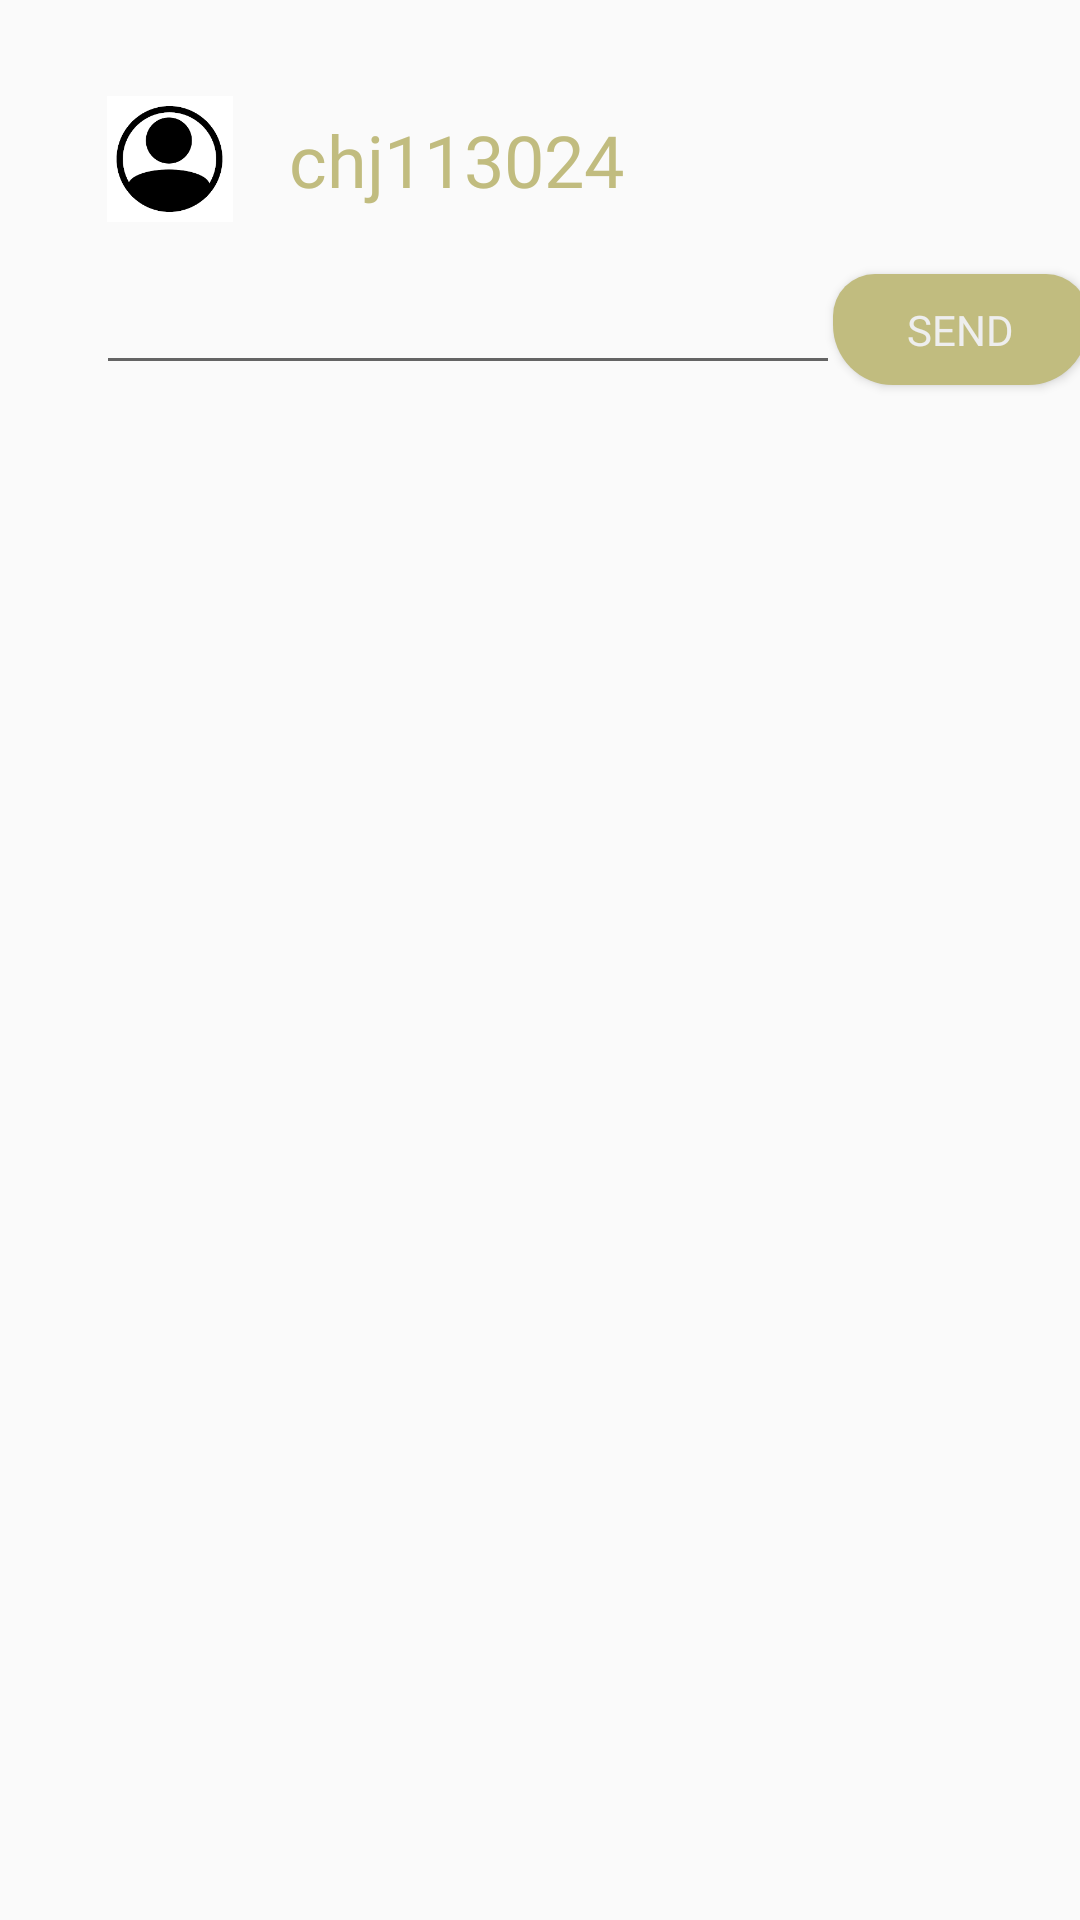

Icon bounding boxes for this 1080×1920 phone screenshot, format region(x1, y1, x2, y2):
person: region(116, 106, 223, 212)
